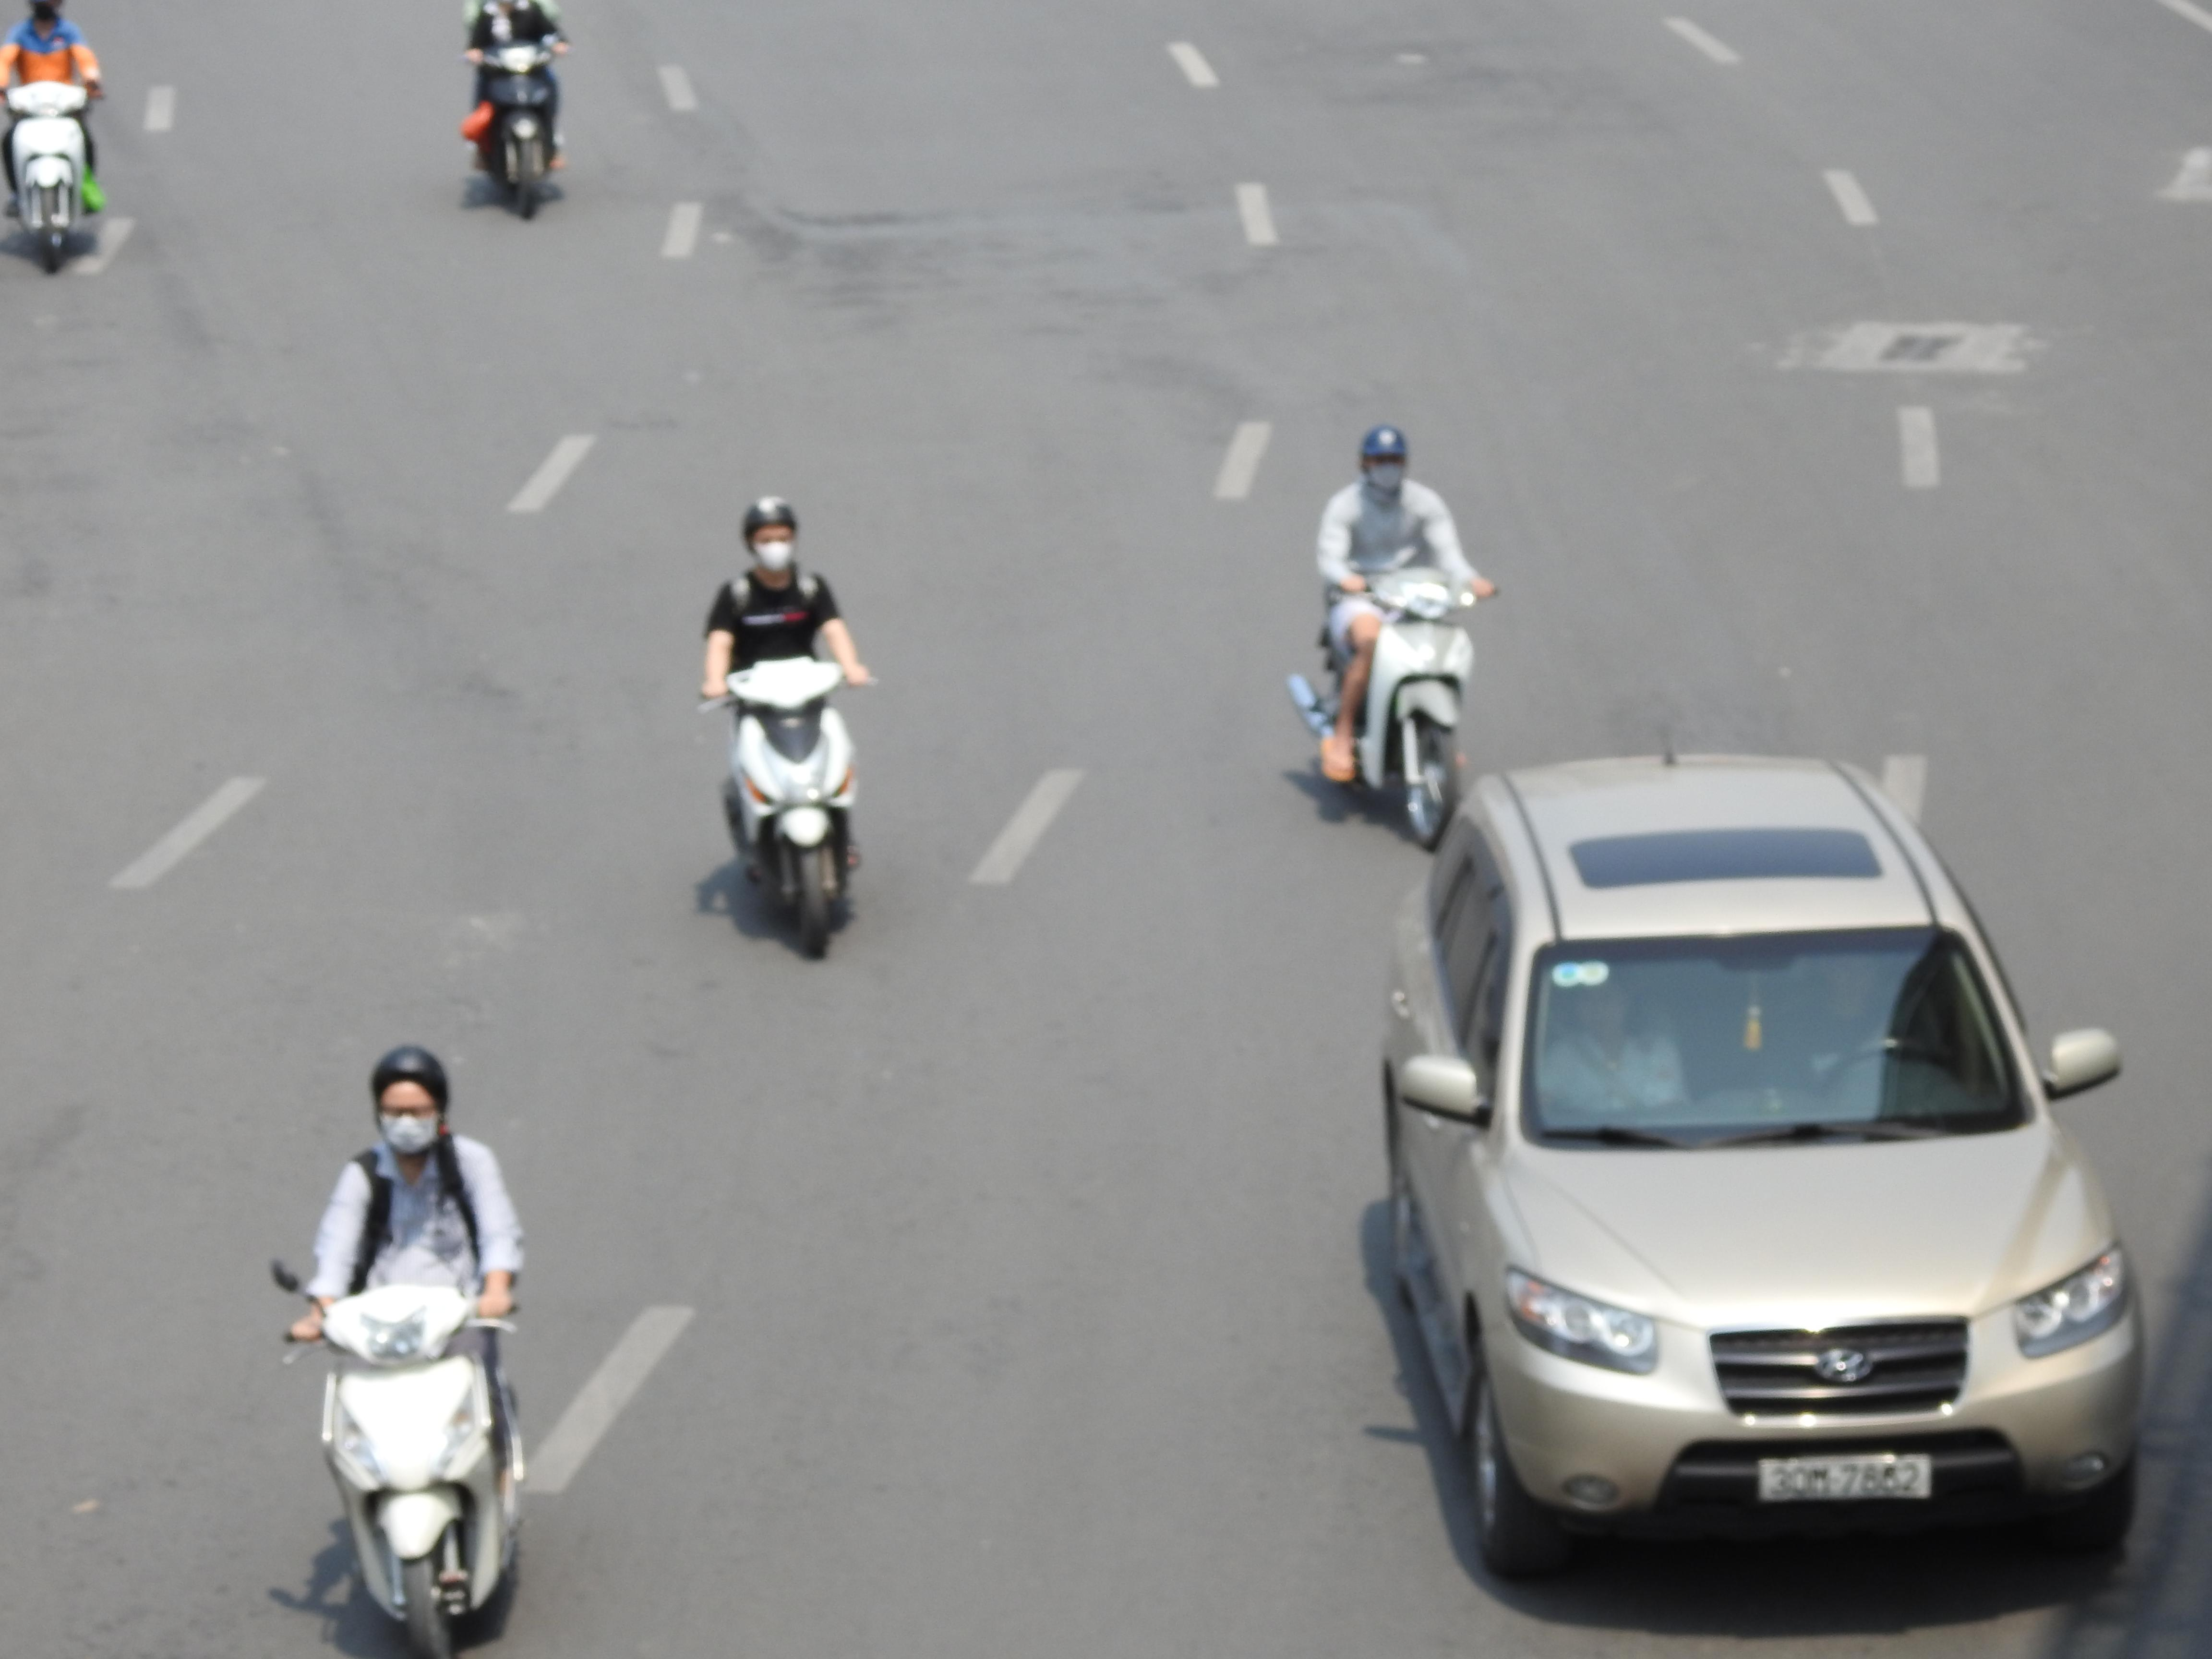BSD: (1757, 1453, 1933, 1502)
car: (1362, 748, 2149, 1577)
motorbike: (272, 1044, 529, 1659), (1292, 423, 1494, 854), (702, 497, 869, 962), (0, 0, 103, 275), (462, 0, 570, 223)
